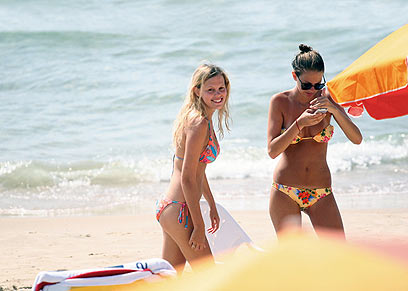Person: (262, 38, 368, 252), (152, 45, 237, 291)
